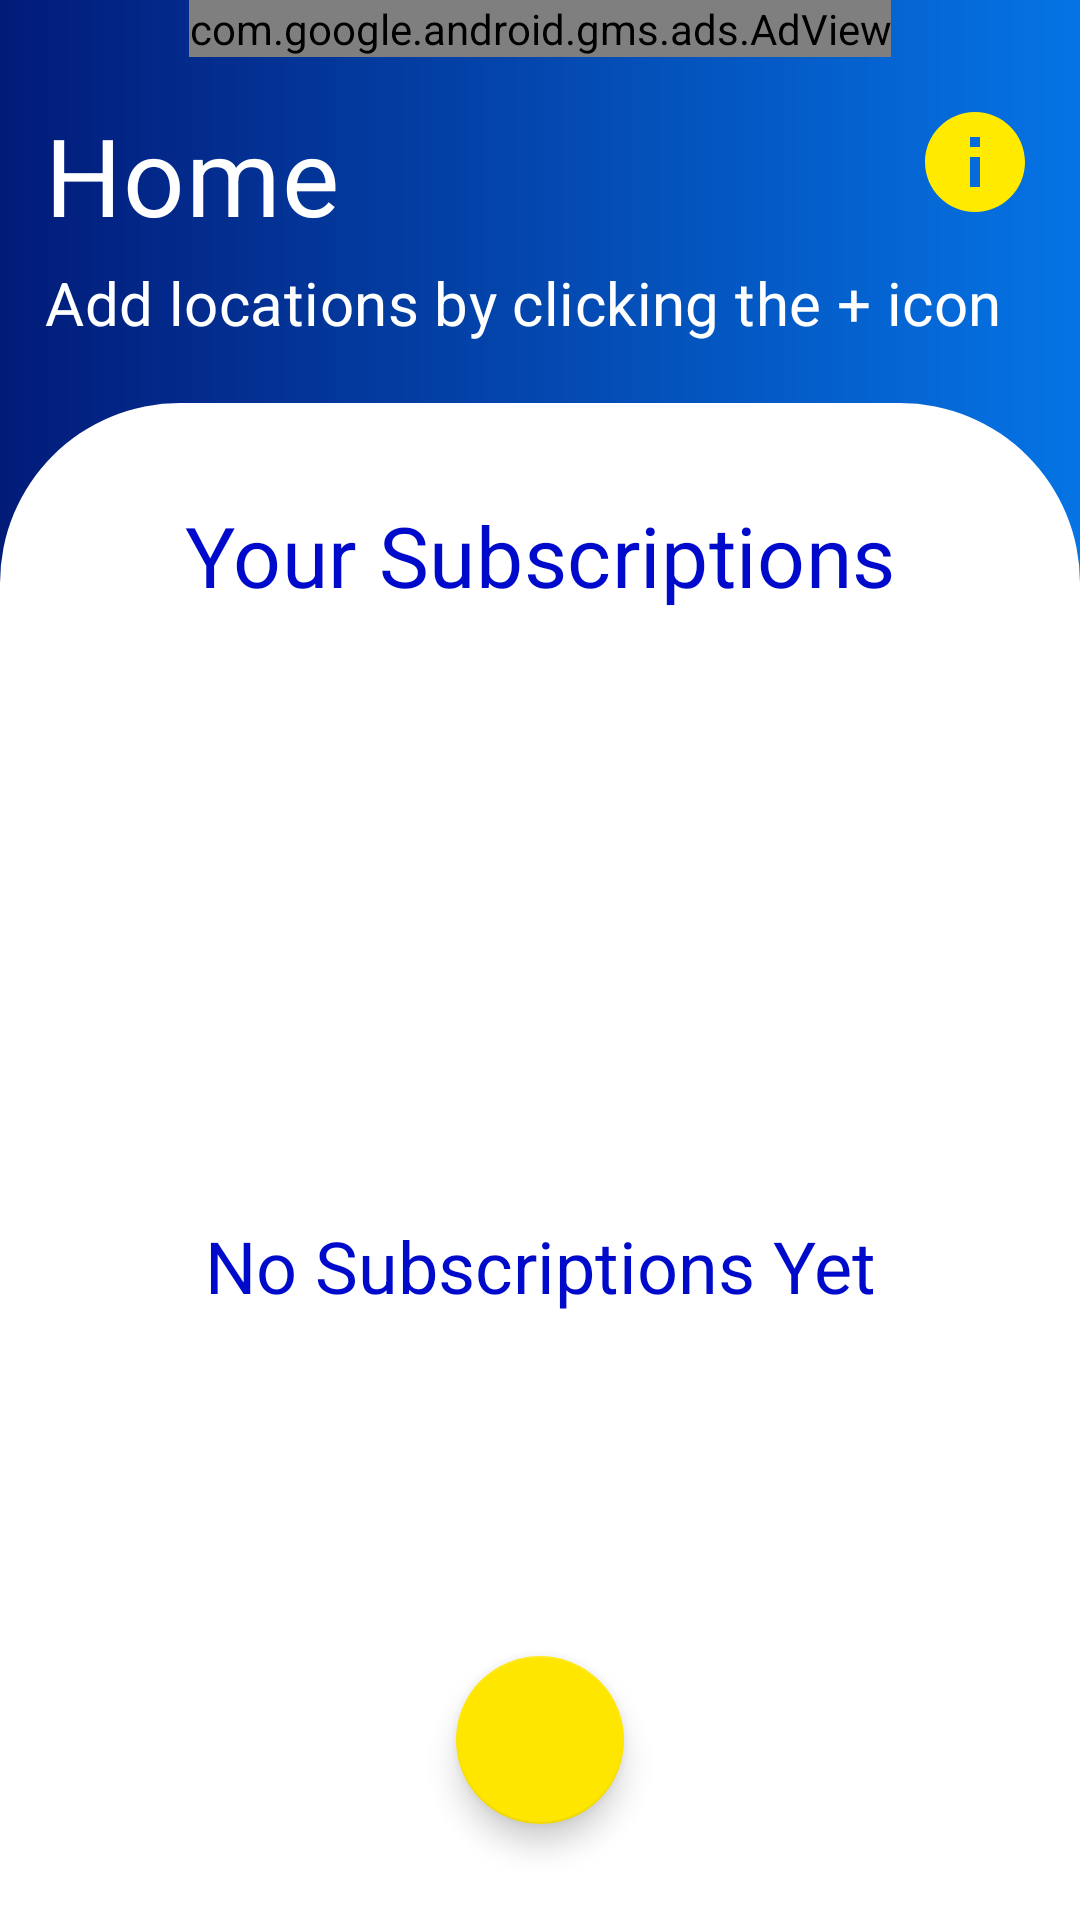

Named icons in this screenshot (1080px×1920px) and their centers, (x=x, y=y):
info: (x=975, y=162)
